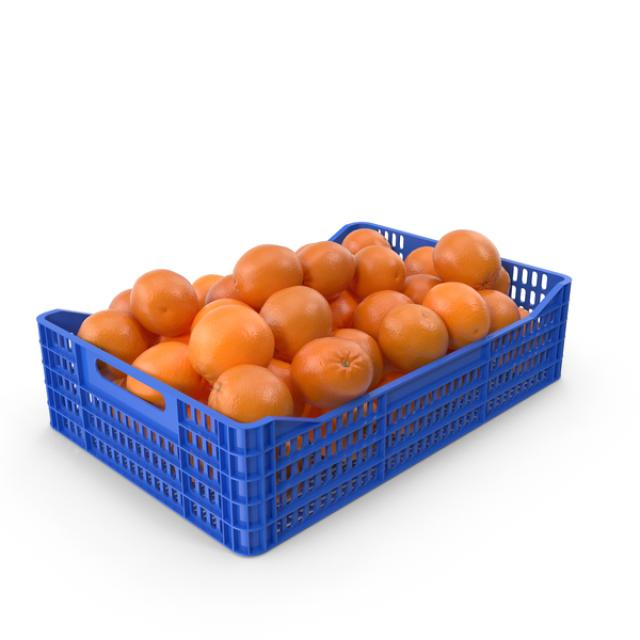basket: (35, 257, 582, 564)
